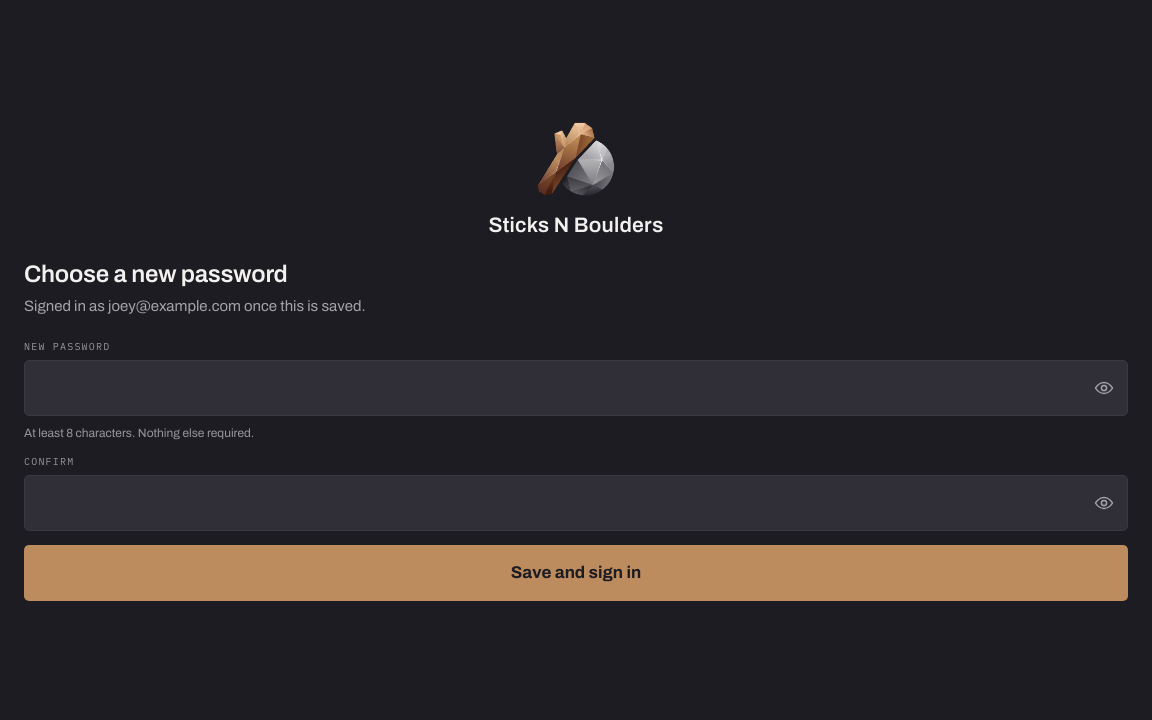
Test: a link that has been used or has expired › changes the screen rather than nagging
The image size is (1152, 720).
In the password field labelled "New password": (576, 388) [24,360,1128,416], type "hunter2222"
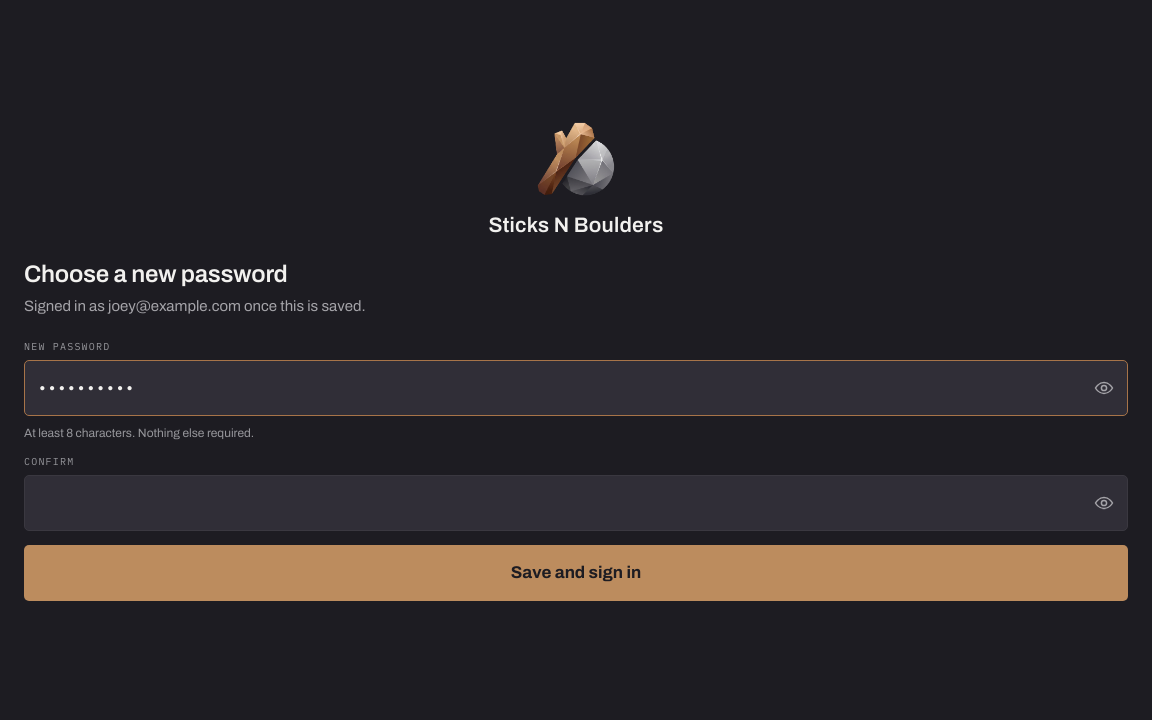
In the password field labelled "Confirm": (576, 503) [24,475,1128,531], type "hunter2222"
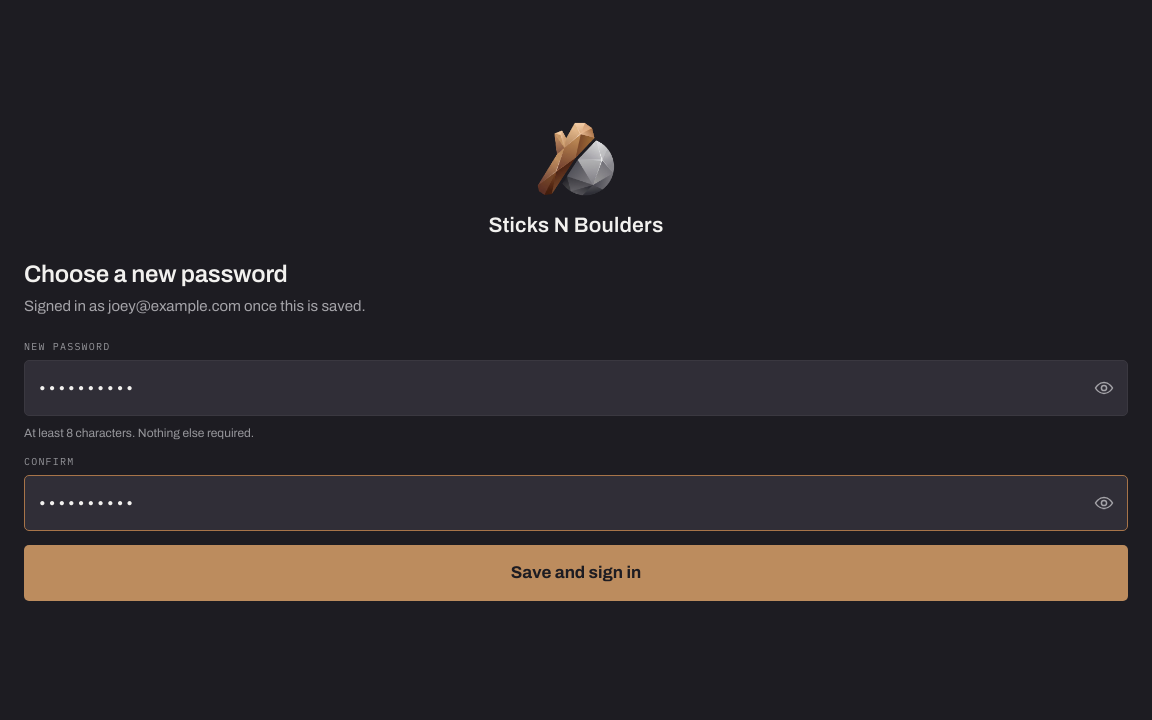
Click the button "Save and sign in": click(576, 573) [24,545,1128,601]
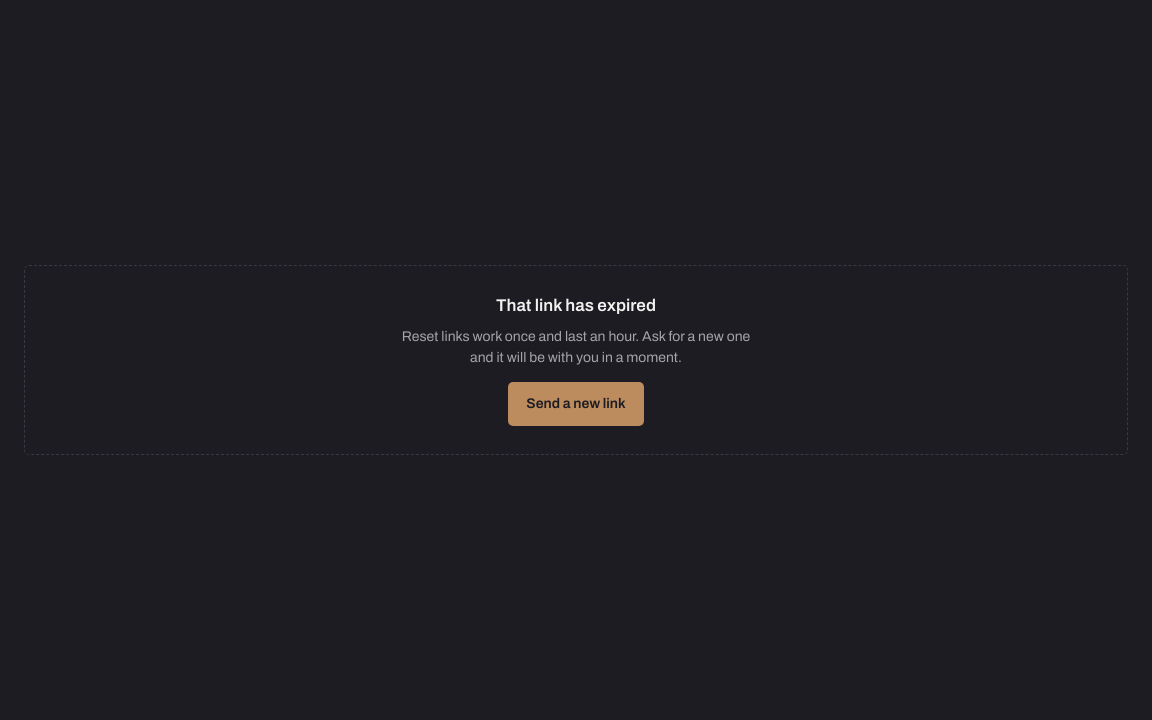
Result: the text "That link has expired" is shown at [496,294,656,318]
